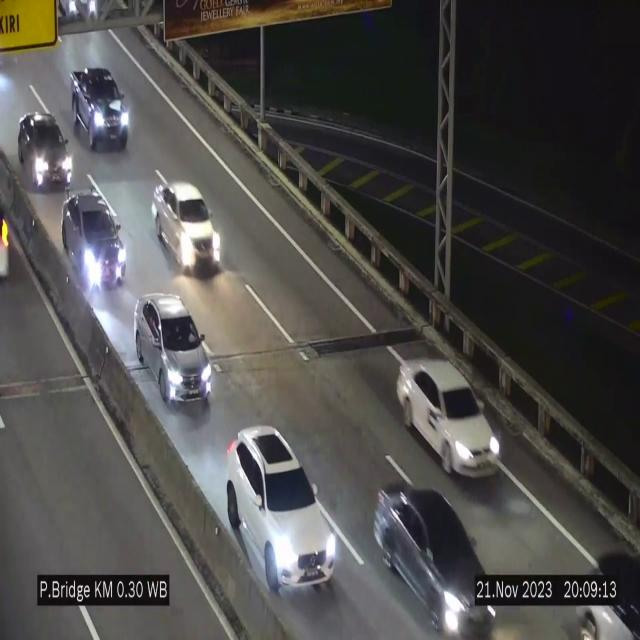Car: (374, 482, 500, 637), (226, 427, 338, 595), (395, 359, 503, 477), (134, 294, 212, 408), (64, 191, 130, 293), (153, 182, 219, 273), (71, 66, 130, 149), (17, 109, 70, 200)
